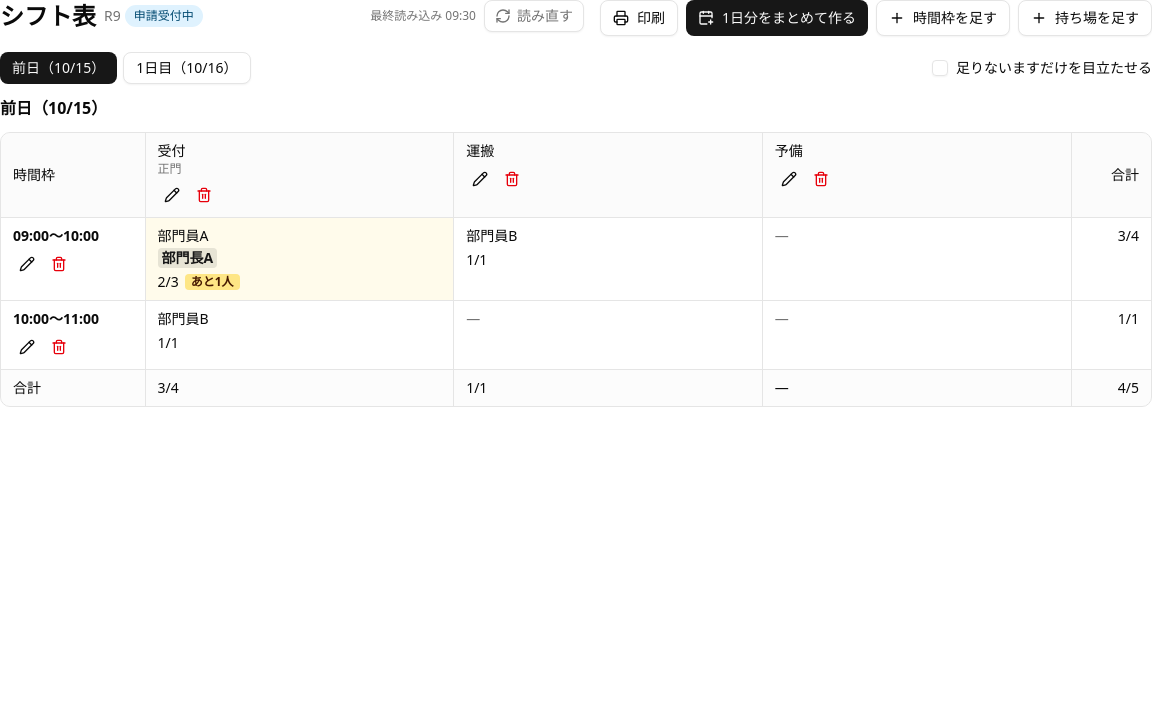
T20 シフト表：部門長以上 › ますのダイアログ：同じ時間枠のほかのますにいる人は「{持ち場}に入っています」で選べない。23505 で読み直してほかのますなら知らせる
The width and height of the screenshot is (1152, 720).
Expected: the table with test id "shifts-table" is shown, [1, 133, 1151, 406]
Click the button "部門員B 1/1" in the row of "09:00〜10:00": (492, 236) [454, 218, 762, 278]
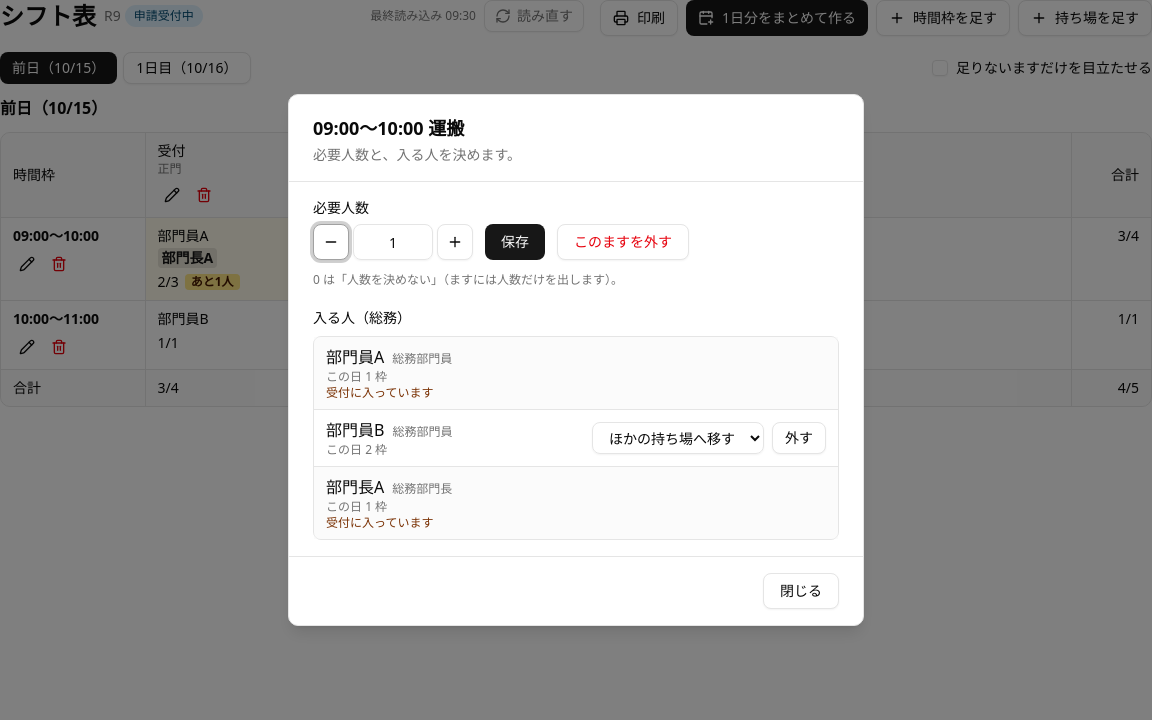
Expected: the 1st list item with test id "shift-member-option" is shown, [314, 337, 838, 410]
Expected: the 1st text with test id "shift-member-busy" reads "受付に入っています", [326, 384, 433, 401]
